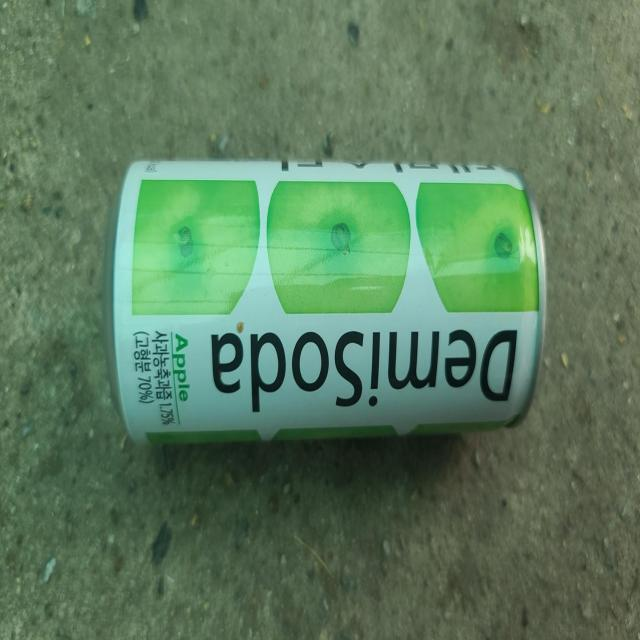can: (103, 159, 547, 442)
